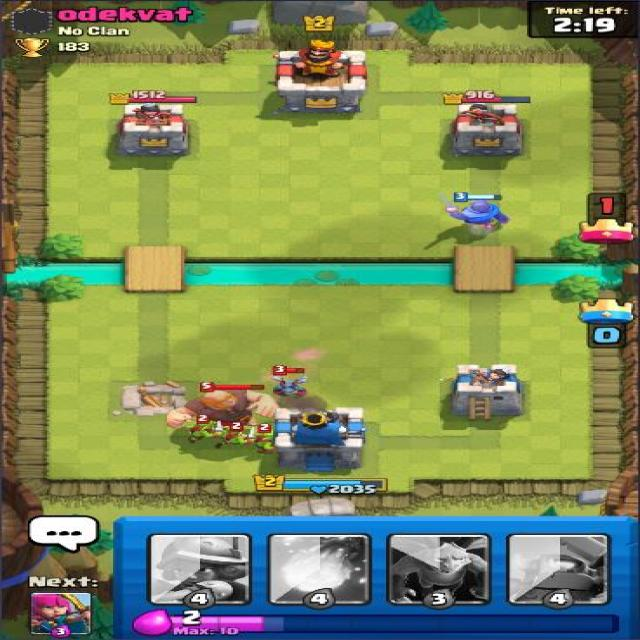Enemy-Giant: (162, 381, 283, 436)
Enemy-Goblin: (245, 421, 285, 459), (183, 410, 224, 446), (211, 421, 252, 451)
Enemy-Minion: (270, 364, 311, 400)
Player-Knight: (442, 188, 515, 232)
